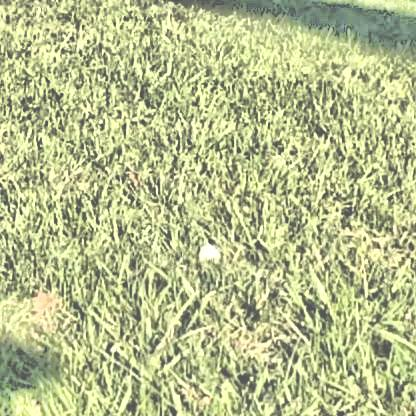golfball: (195, 240, 218, 259)
